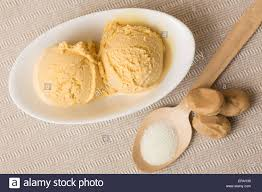ice-cream: (100, 20, 166, 94), (33, 42, 100, 104), (140, 124, 178, 165)
